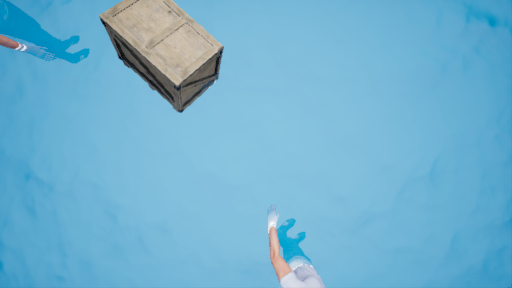person: (257, 205, 339, 287)
